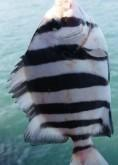fish: (8, 0, 114, 164)
